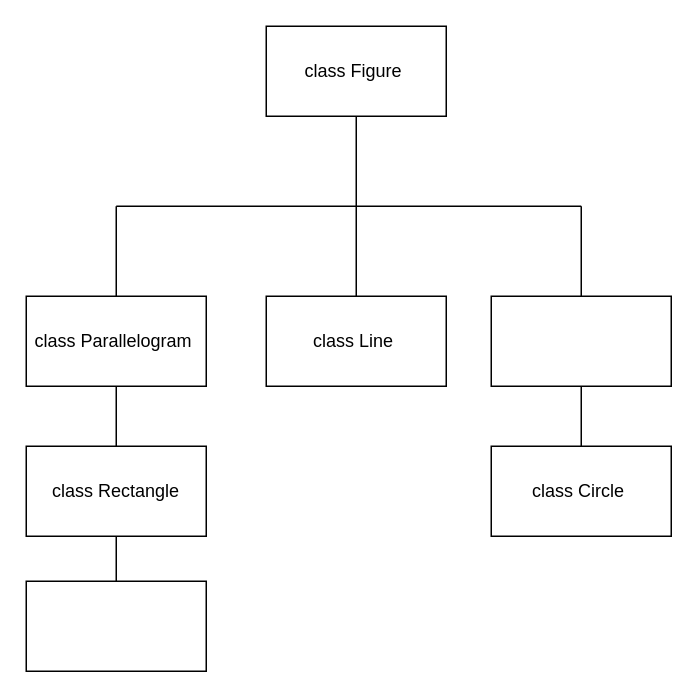
This 698x698 diagram has some shape labels left out. The shapes that lost their labels are listed below. From the top down, each one's centre as x and y in pixels, then its label:
At point (580, 340): "class Ellipse".
At point (115, 625): "class square".
